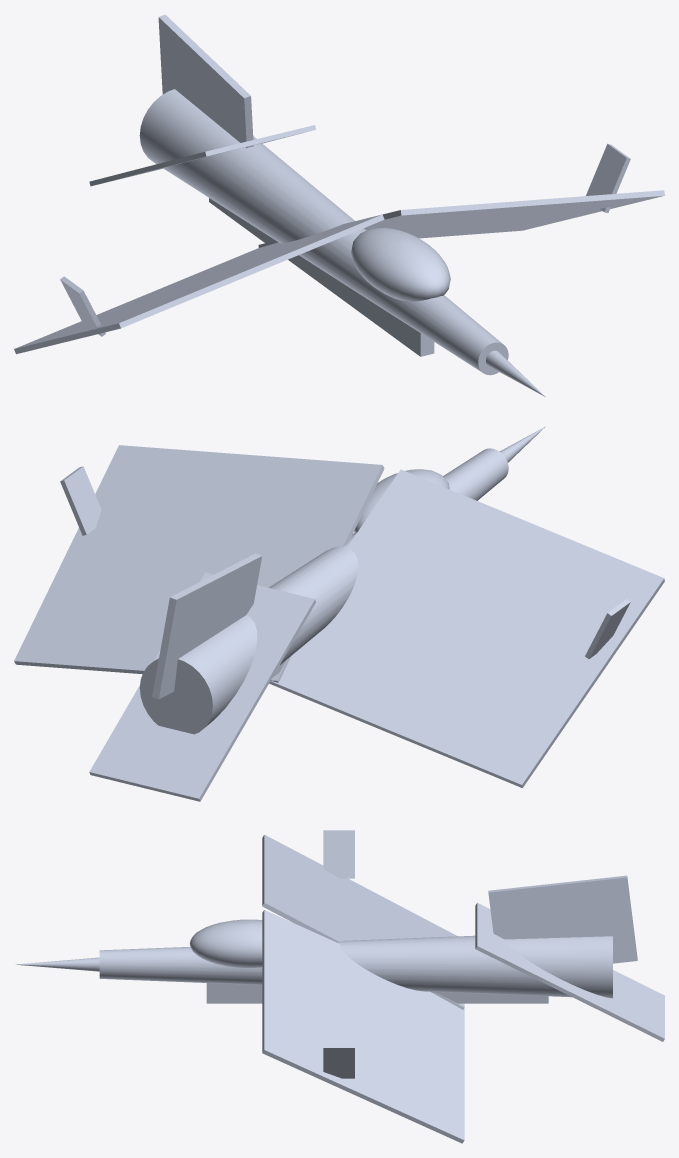
The model's file is glider.gltf.
3 views of the same model, one above another, from view 1: azimuth 30°, elevation 25°; view 2: azimuth 150°, elevation 25°; view 3: azimuth 270°, elevation 25° (orthographic). The views are drawn at different scales.
Visible parts, largest first — view 1: glider; view 2: glider; view 3: glider.
Boxes of the visible parts, x1=… form: glider: x1=14, y1=14, x2=664, y2=396; glider: x1=14, y1=426, x2=664, y2=801; glider: x1=15, y1=830, x2=664, y2=1143.
Size of the model in its own units: 3.61 by 1.28 by 4.56.
